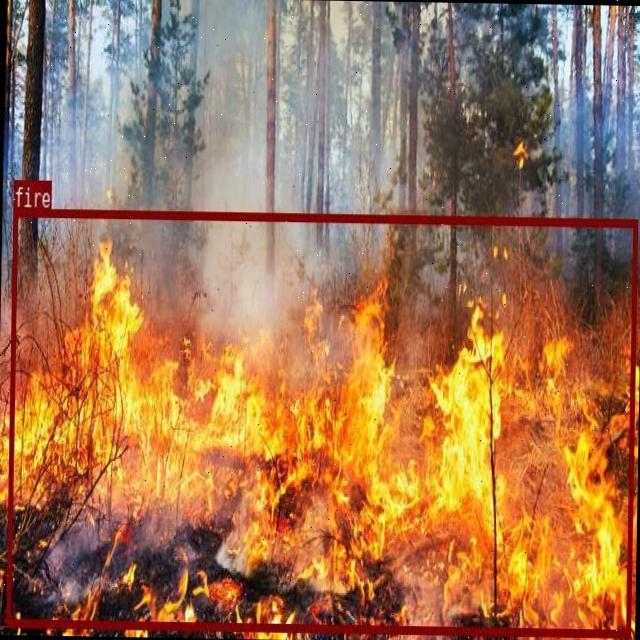fire: (5, 208, 636, 636)
